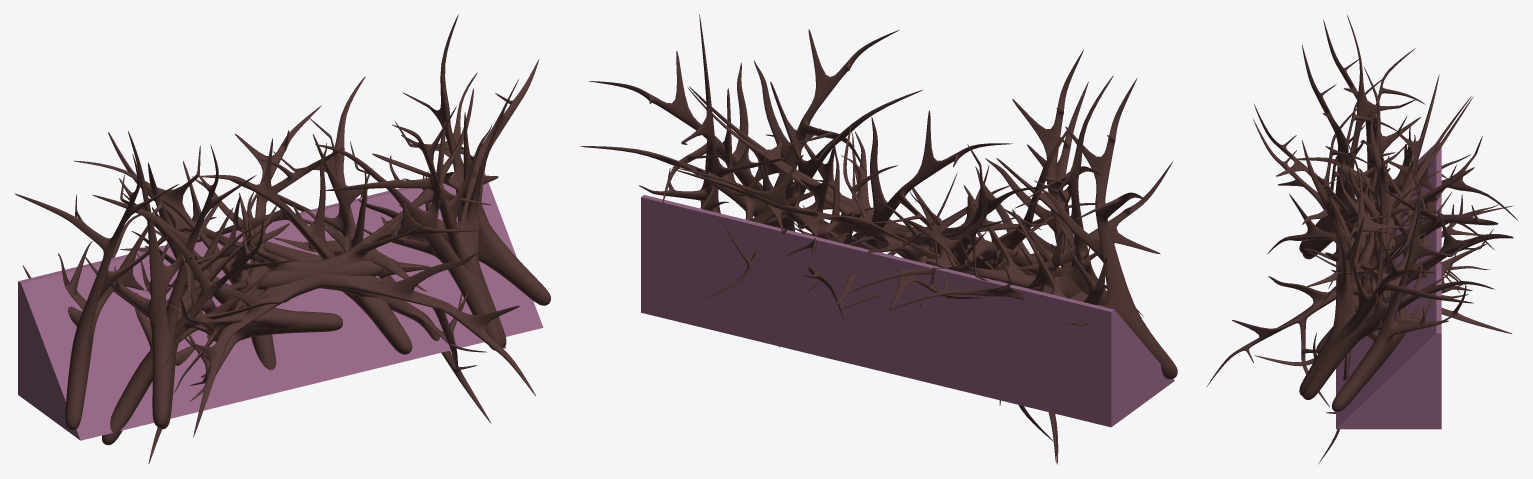
Rendered from Musor.fbx.
3 views of the same model, side by side, from view 1: azimuth 30°, elevation 25°; view 2: azimuth 150°, elevation 25°; view 3: azimuth 270°, elevation 25° (orthographic). The views are drawn at different scales.
Parts seen in each view (by area): view 1: Куб, Cube.007, Cube.011, Cube.012, Cube.009, Cube.003, Cube.010, Cube, Cube.004, Cube.001; view 2: Куб, Cube.012, Cube.011, Cube.009, Cube.003, Cube.007, Cube, Cube.001, Cube.010, Cube.004; view 3: Куб, Cube.011, Cube.007, Cube.001, Cube.009, Cube.012, Cube, Cube.010, Cube.003, Cube.004.
Boxes of the visible parts, x1=… form: Куб: x1=18, y1=173, x2=543, y2=440; Cube.007: x1=108, y1=88, x2=535, y2=463; Cube.011: x1=315, y1=59, x2=539, y2=350; Cube.012: x1=84, y1=131, x2=289, y2=429; Cube.009: x1=120, y1=76, x2=412, y2=354; Cube.003: x1=14, y1=153, x2=186, y2=430; Cube.010: x1=123, y1=162, x2=342, y2=401; Cube: x1=74, y1=105, x2=343, y2=369; Cube.004: x1=102, y1=207, x2=296, y2=445; Cube.001: x1=305, y1=14, x2=550, y2=305; Куб: x1=641, y1=195, x2=1174, y2=427; Cube.012: x1=845, y1=50, x2=1113, y2=305; Cube.011: x1=580, y1=29, x2=922, y2=231; Cube.009: x1=671, y1=110, x2=1012, y2=310; Cube.003: x1=888, y1=78, x2=1177, y2=379; Cube.007: x1=687, y1=86, x2=1143, y2=441; Cube: x1=734, y1=124, x2=1057, y2=267; Cube.001: x1=639, y1=14, x2=849, y2=321; Cube.010: x1=968, y1=122, x2=1172, y2=464; Cube.004: x1=839, y1=82, x2=1088, y2=310; Куб: x1=1336, y1=143, x2=1441, y2=429; Cube.011: x1=1299, y1=140, x2=1494, y2=399; Cube.007: x1=1206, y1=96, x2=1473, y2=463; Cube.001: x1=1332, y1=168, x2=1512, y2=411; Cube.009: x1=1316, y1=114, x2=1513, y2=353; Cube.012: x1=1299, y1=15, x2=1494, y2=259; Cube: x1=1348, y1=74, x2=1513, y2=262; Cube.010: x1=1253, y1=66, x2=1464, y2=285; Cube.003: x1=1323, y1=19, x2=1517, y2=220; Cube.004: x1=1253, y1=103, x2=1460, y2=293.
Size of the model in its own units: 990 by 644 by 592.
